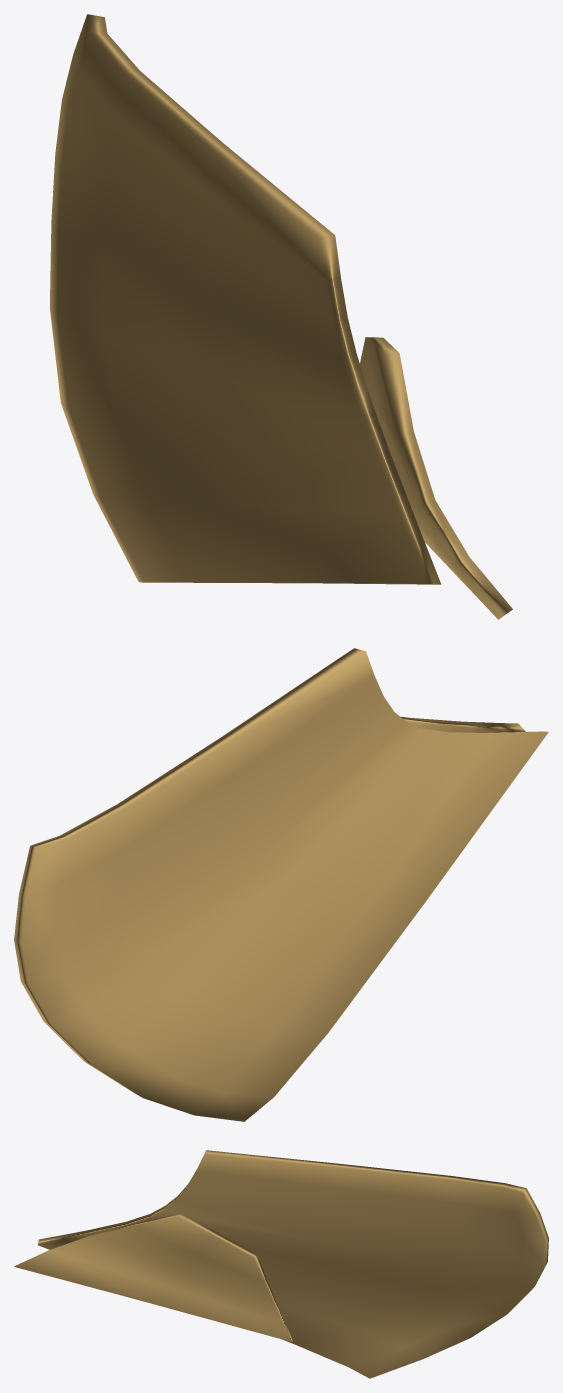
3 renders of one model, top to bottom at view 1: azimuth 30°, elevation 25°; view 2: azimuth 150°, elevation 25°; view 3: azimuth 270°, elevation 25°, orthographic. The views are drawn at different scales.
Visible parts, largest first — view 1: 左侧胫舟韧带; view 2: 左侧胫舟韧带; view 3: 左侧胫舟韧带.
Part boxes in pixels (<box>): 左侧胫舟韧带: <box>50,14,512,619</box>; 左侧胫舟韧带: <box>14,648,548,1121</box>; 左侧胫舟韧带: <box>14,1150,548,1378</box>.
Bounding box in the file's own units: 0.00922 × 0.0207 × 0.0434.
